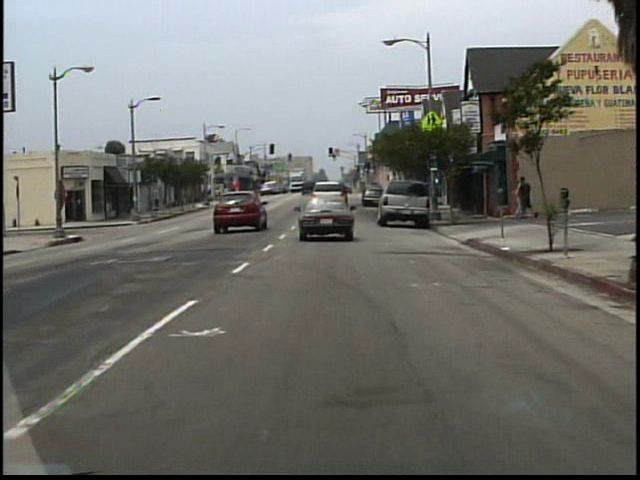person: (519, 176, 531, 218), (512, 181, 525, 219), (154, 189, 164, 214)
